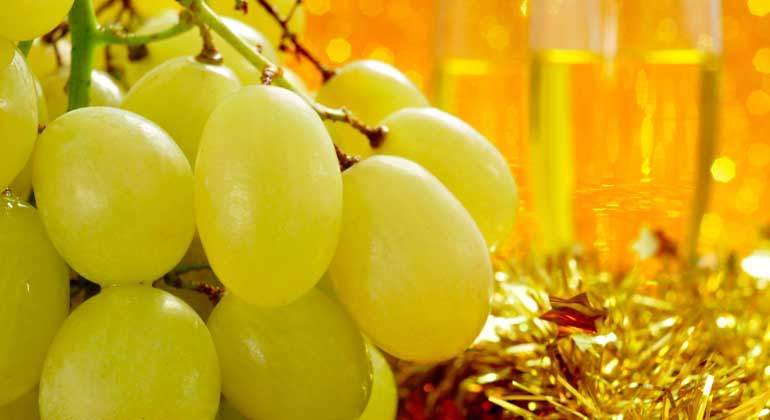Green grapes: (13, 7, 506, 420)
